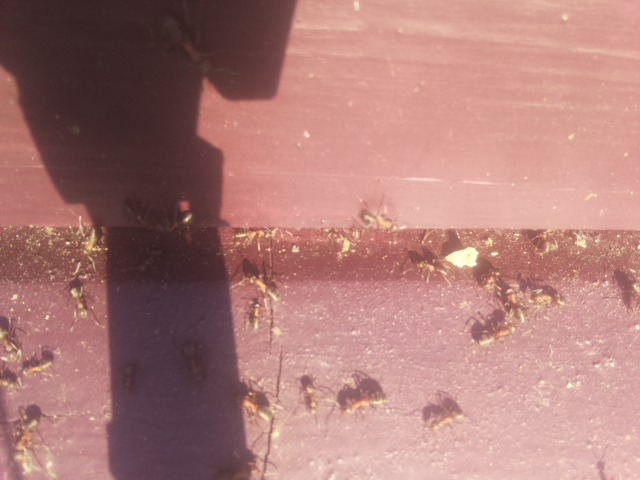ant: (149, 0, 219, 84), (418, 396, 471, 435), (236, 265, 286, 305), (11, 400, 46, 454), (64, 268, 94, 325), (232, 383, 273, 424), (351, 203, 404, 234), (178, 335, 205, 393), (169, 192, 197, 245), (613, 263, 639, 317), (339, 390, 392, 416), (18, 347, 60, 379), (478, 320, 520, 348), (295, 372, 321, 416), (501, 285, 527, 325), (244, 293, 263, 336), (3, 321, 19, 362)
